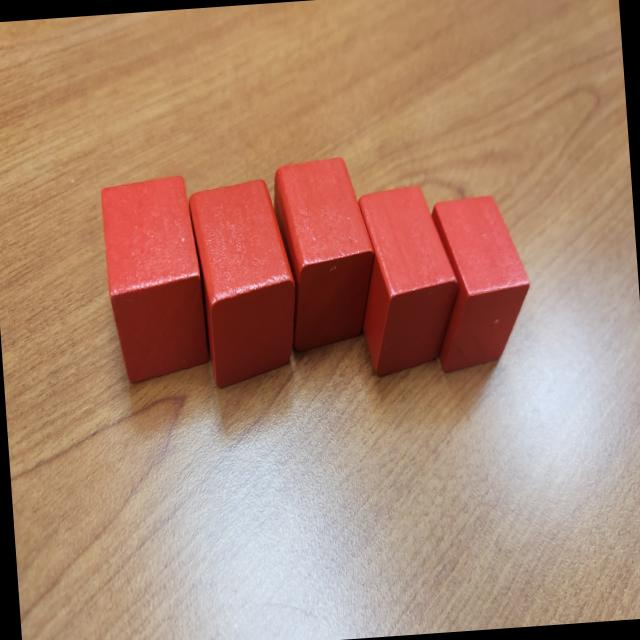red: (188, 175, 303, 388), (100, 175, 214, 386), (268, 154, 381, 354), (351, 181, 464, 380), (429, 193, 536, 374)
